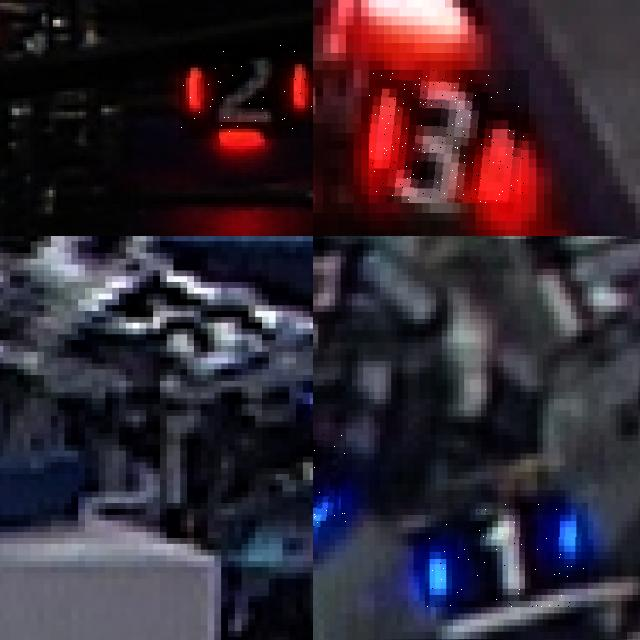B1: (425, 503, 588, 607), (313, 428, 346, 527)
R2: (179, 43, 313, 139)
R3: (369, 70, 529, 203)
